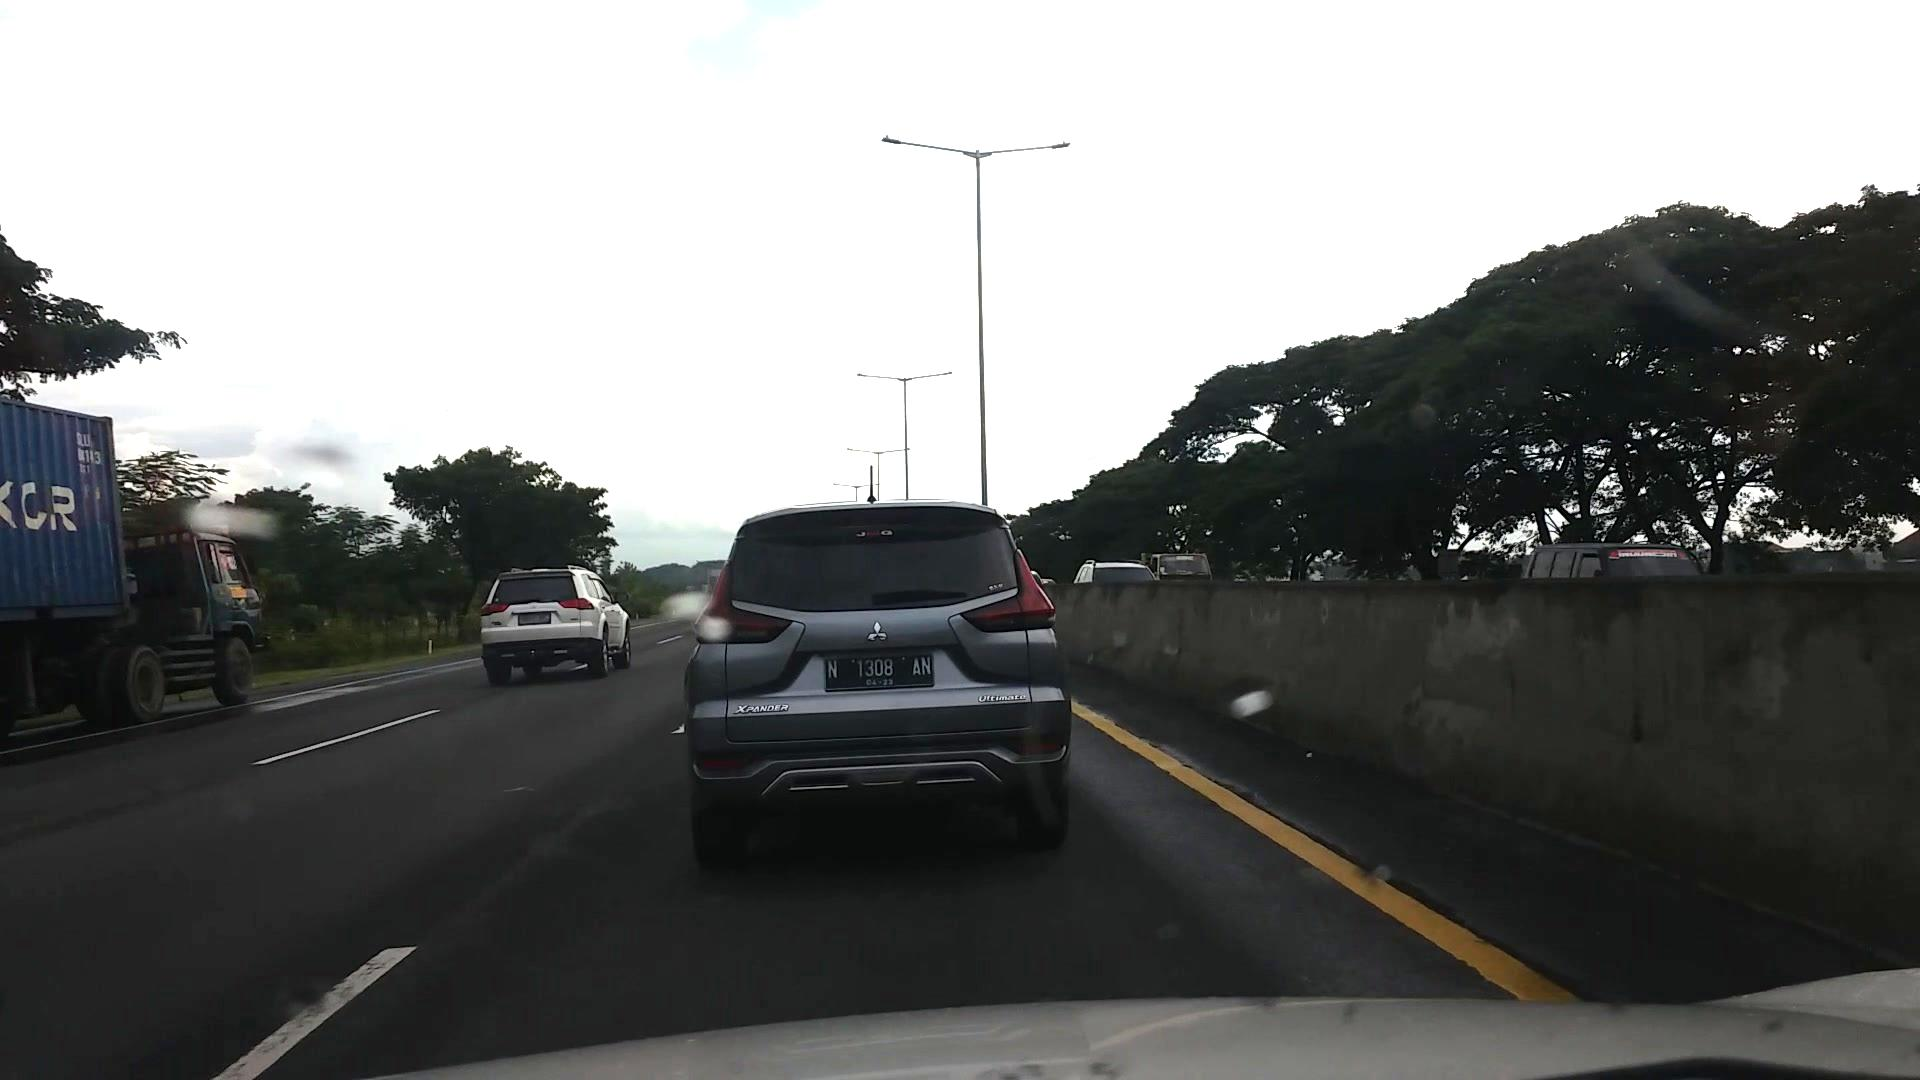plate_positive: (825, 655, 934, 690)
